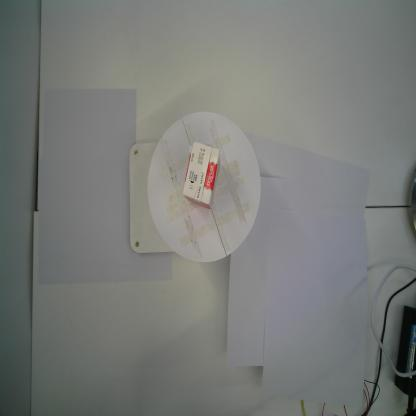Milk: (181, 140, 221, 210)
